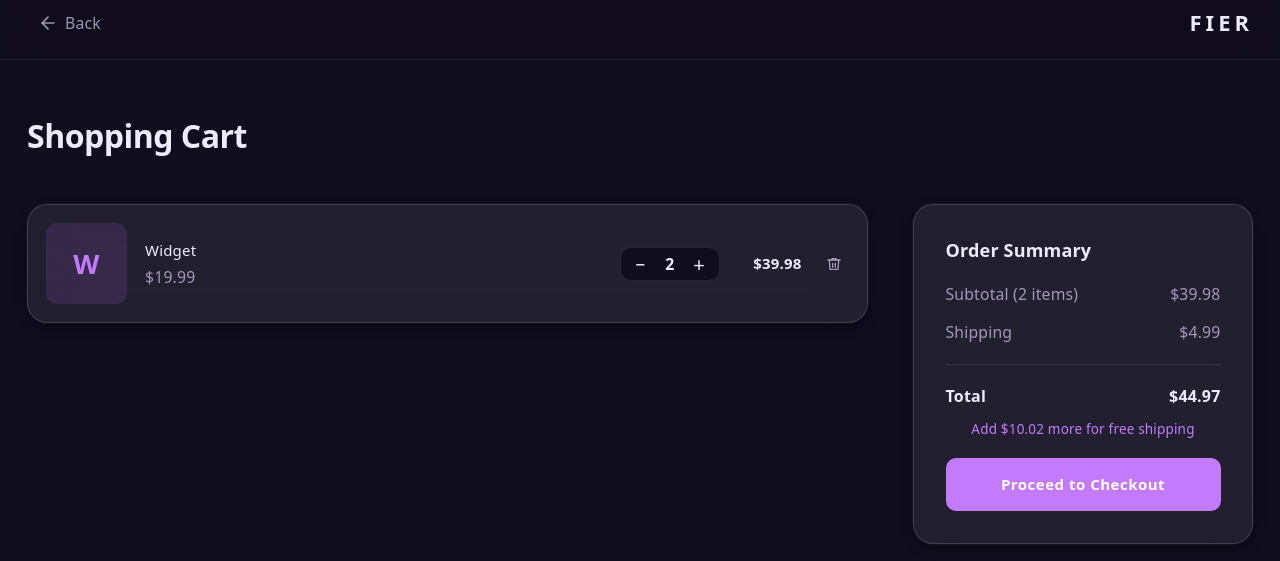
Test: CartPage › shows "Reserving stock" while reserve request is in flight
Click the button "Proceed to Checkout": [1083, 485] box [946,458,1220,512]
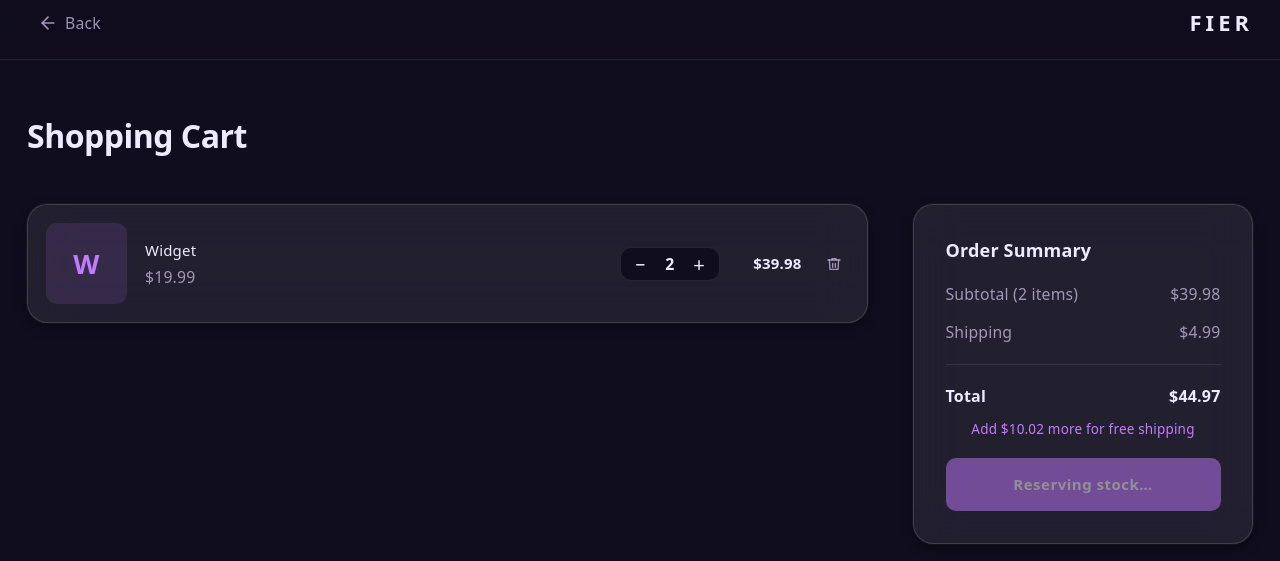
Check: the button "Reserving stock…" is shown, box [946,458,1220,512]
